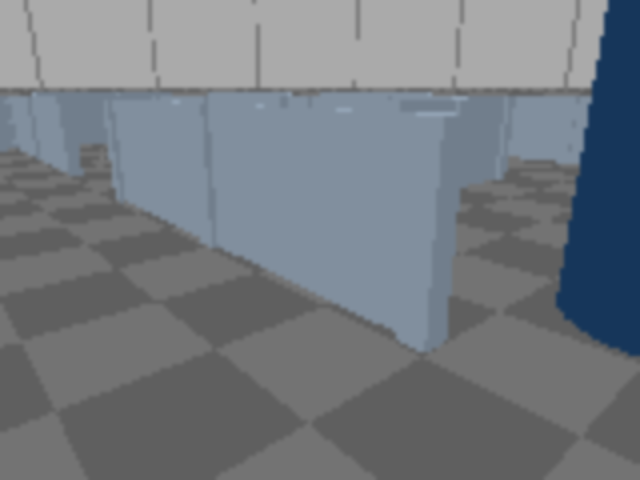person: (564, 0, 638, 364)
